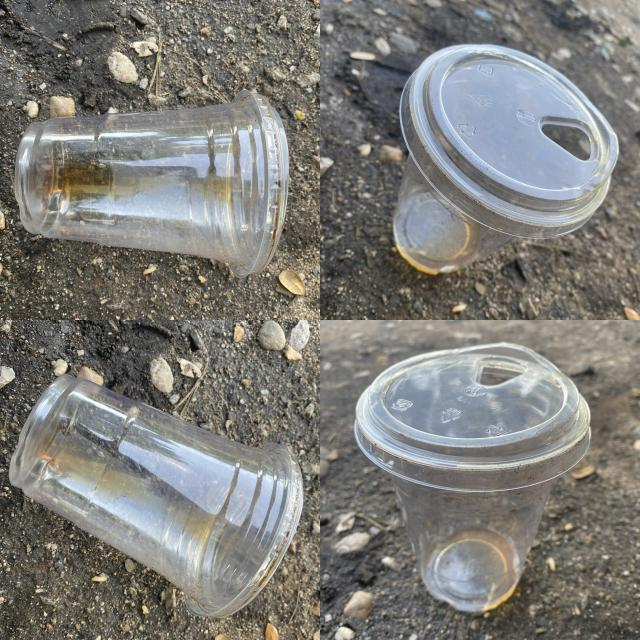Single-Use-Plastic: (10, 375, 302, 617), (355, 342, 591, 612), (15, 90, 289, 278), (394, 45, 619, 273)
